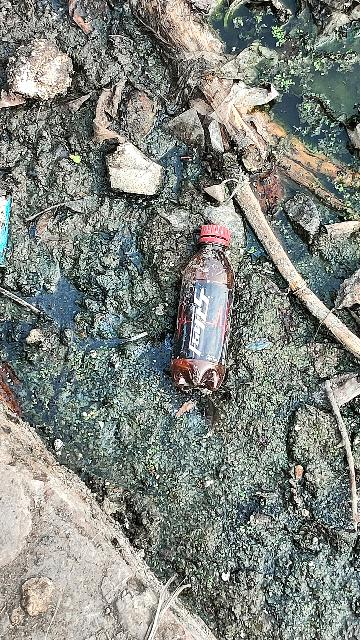bottle: (164, 225, 251, 393)
